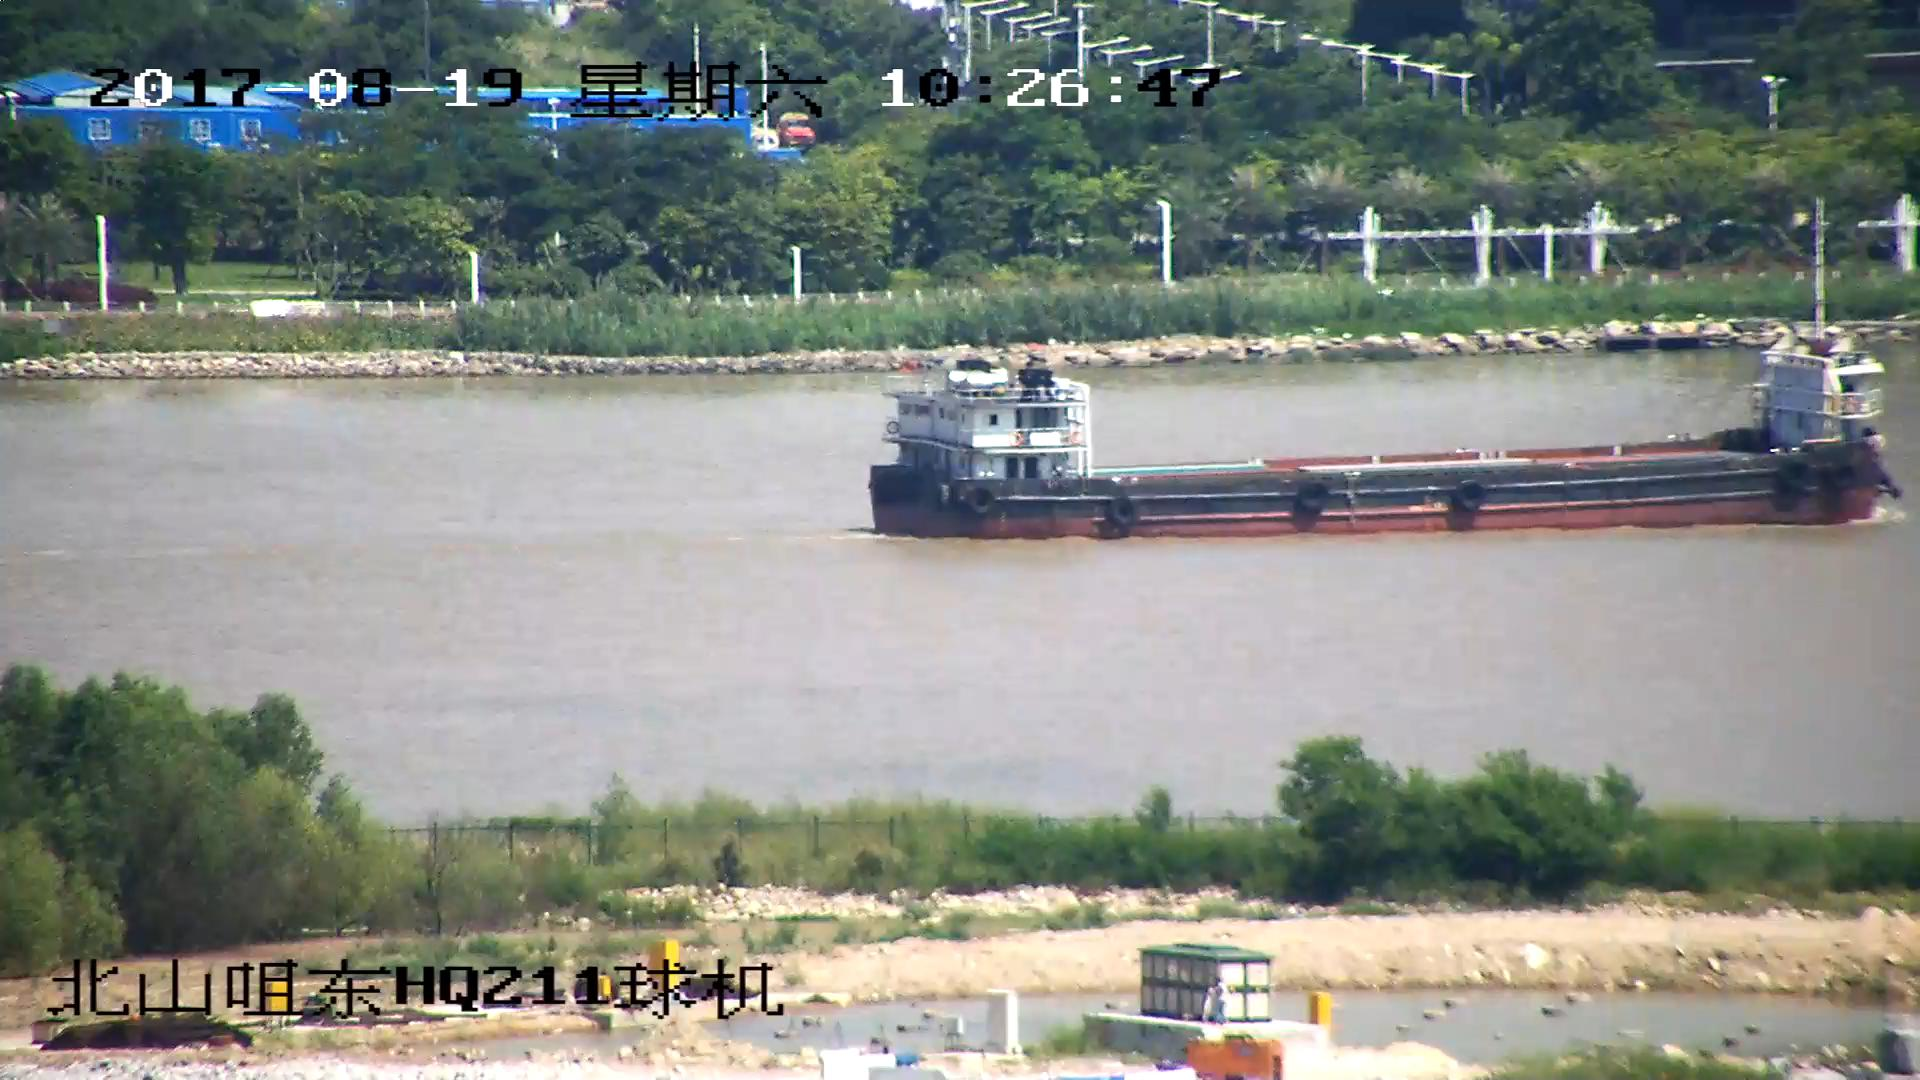general cargo ship: (870, 335, 1892, 539)
